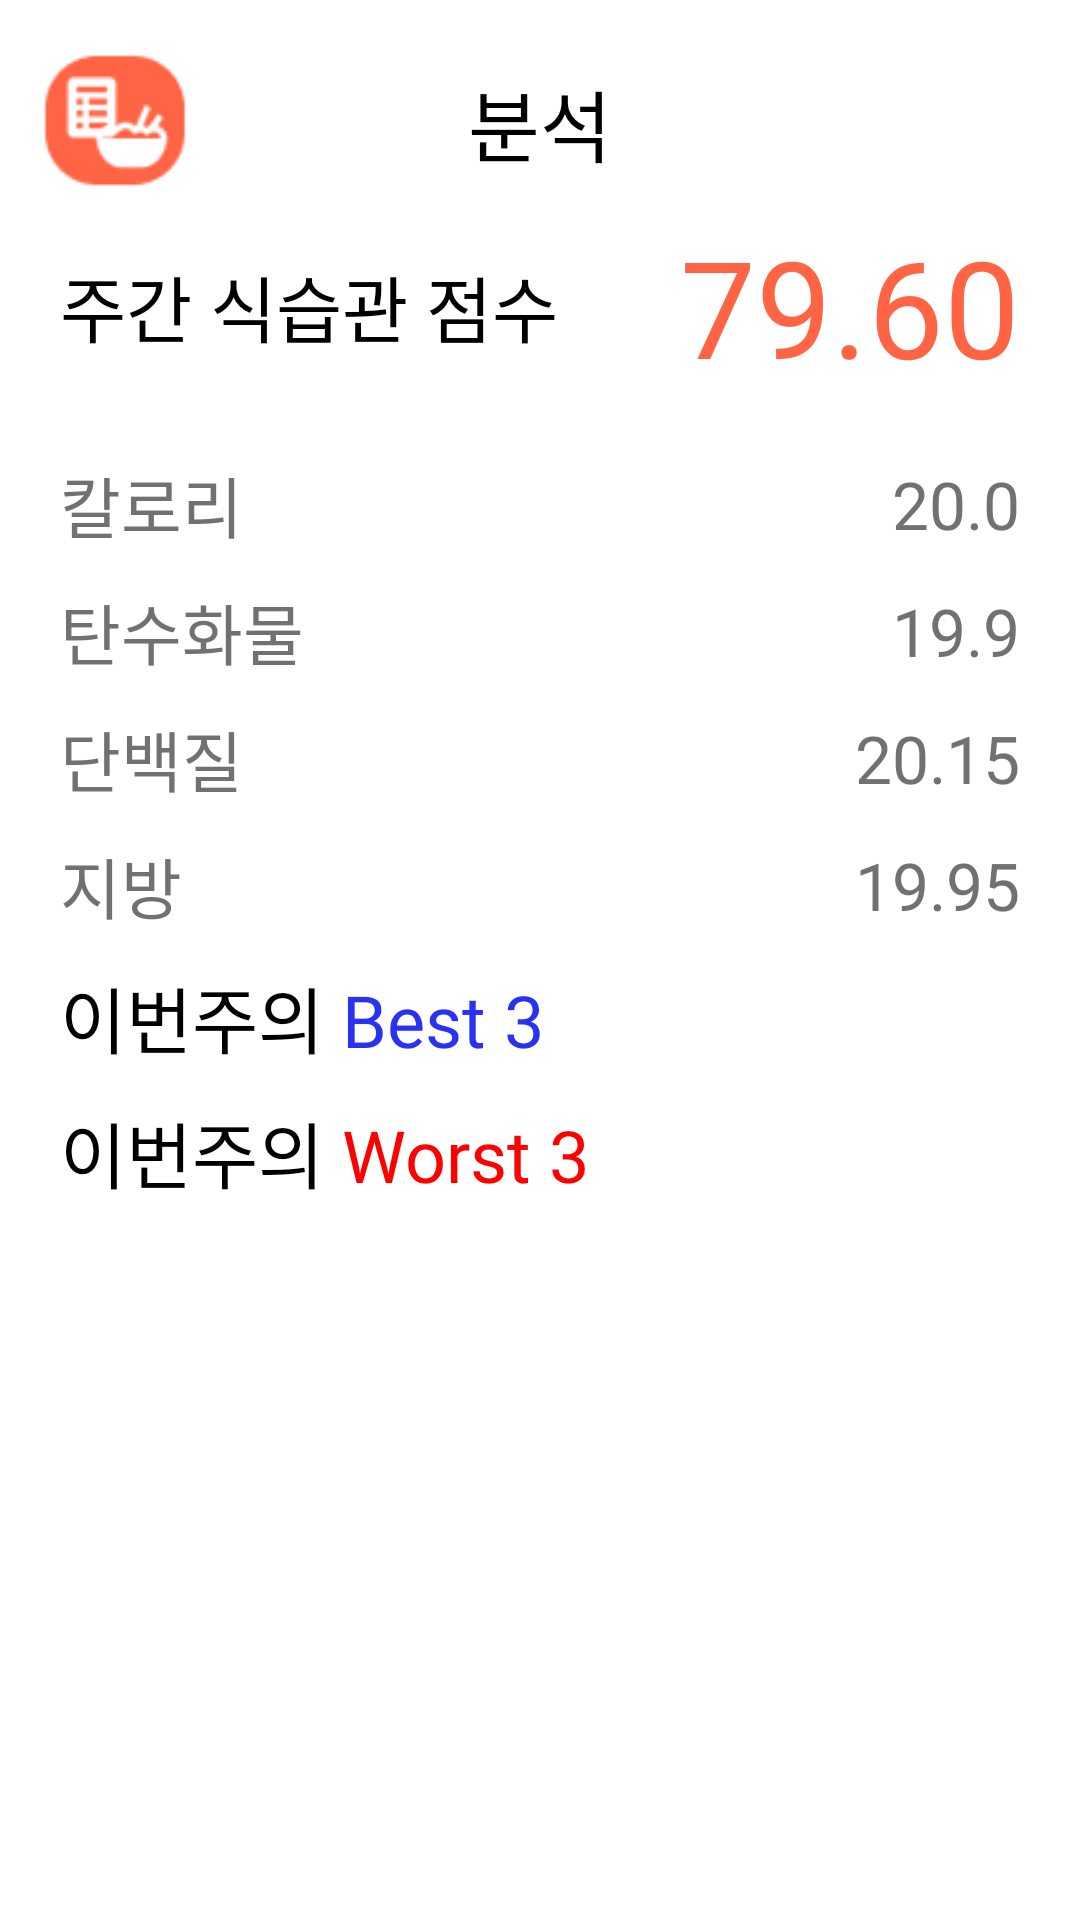

Screen size 1080 × 1920. Icon name, then its box in pixels as BBox(x1, y1, x2, y2):
app: BBox(44, 55, 185, 186)
